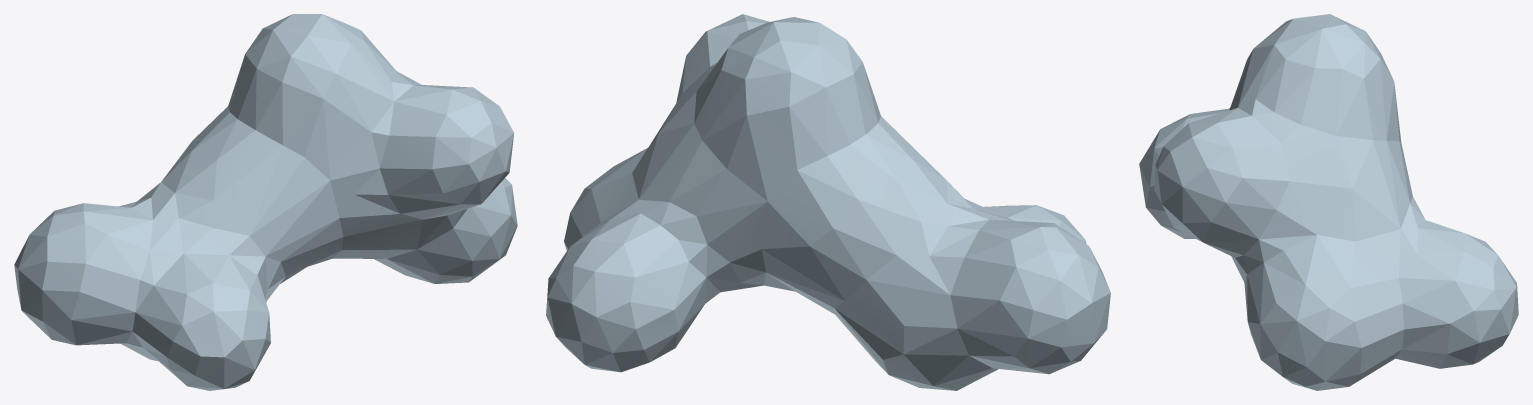
File: medium_cloud_7.fbx
3 renders of one model, left to right at view 1: azimuth 30°, elevation 25°; view 2: azimuth 150°, elevation 25°; view 3: azimuth 270°, elevation 25°, orthographic. The views are drawn at different scales.
Visible parts, largest first — view 1: cloud_57; view 2: cloud_57; view 3: cloud_57.
Part boxes in pixels (x1,y1,x2,y2): cloud_57: [14, 14, 517, 390]; cloud_57: [546, 14, 1110, 390]; cloud_57: [1139, 14, 1518, 390].
Size of the model in its own units: 455 by 271 by 308.
